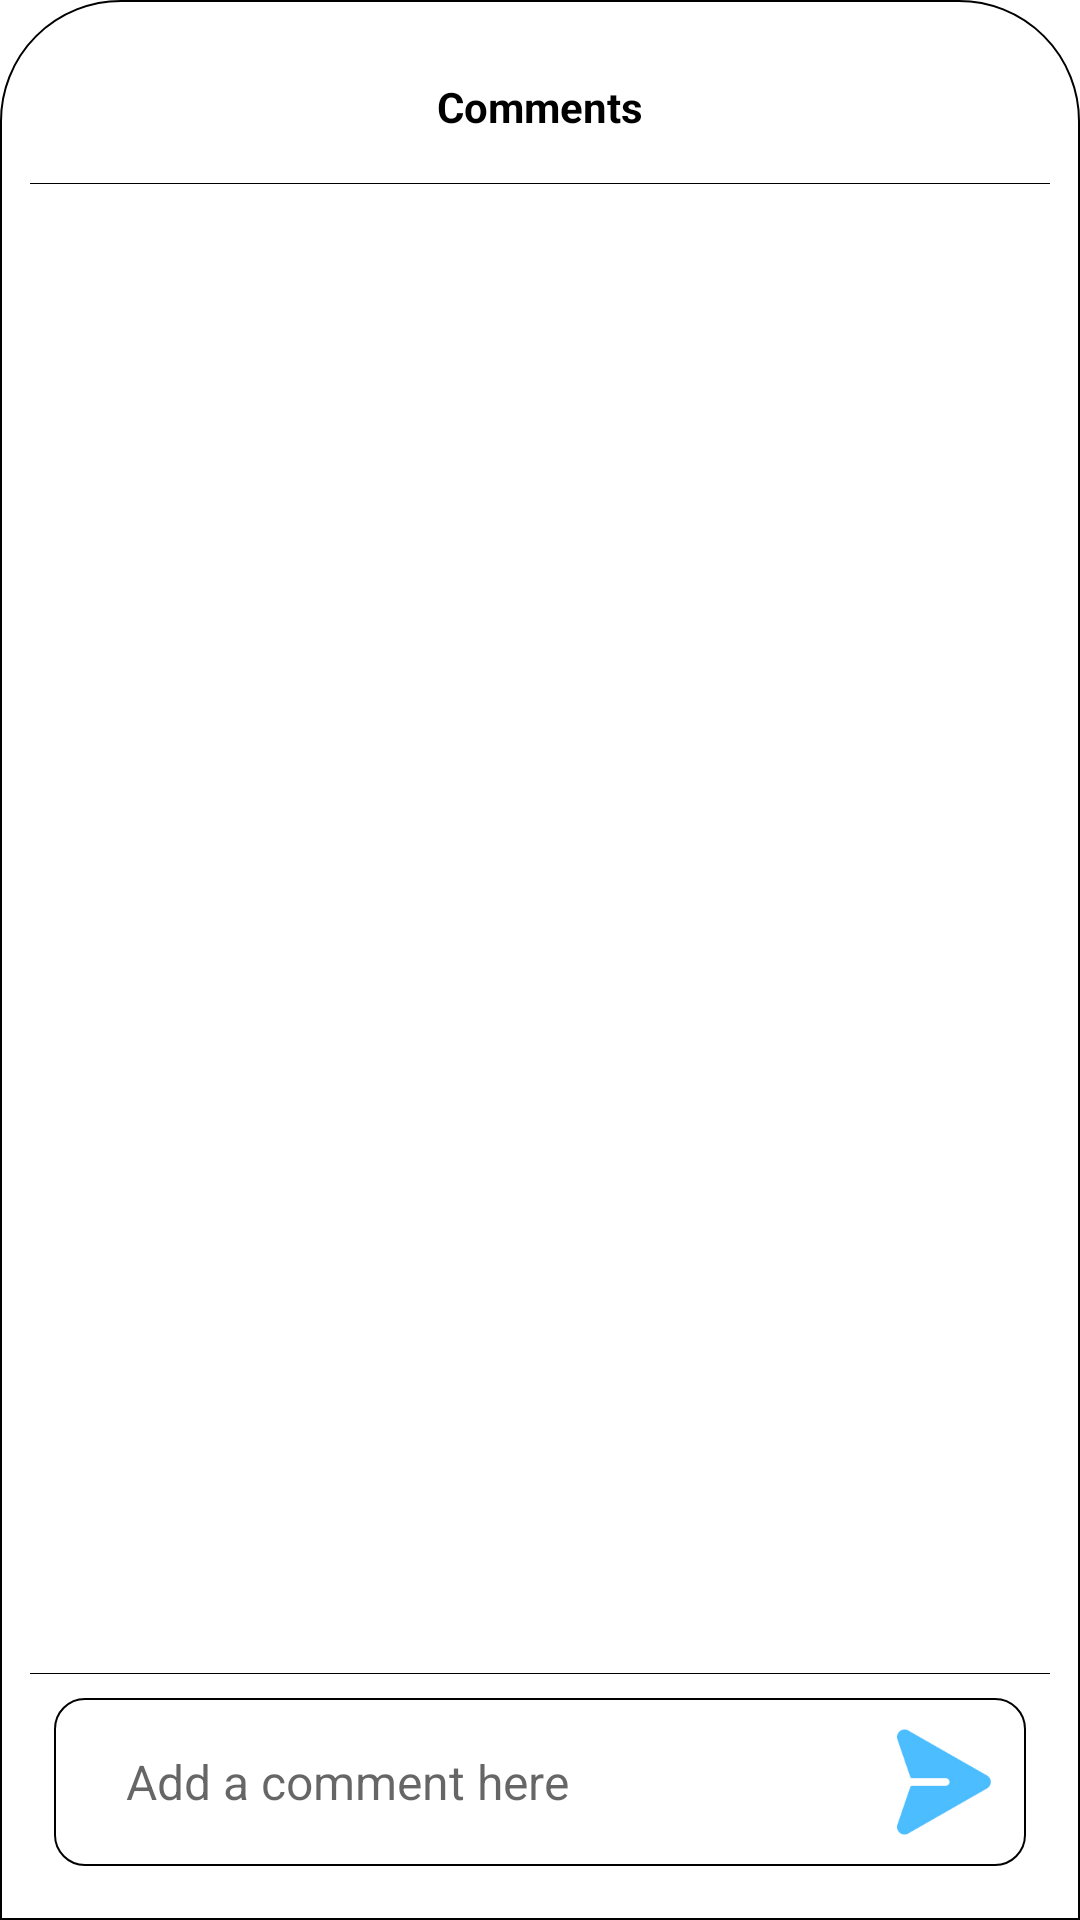

Icon click points for this 1080px x 1920px phone screenshot, format (x,y):
send: (944,1782)
